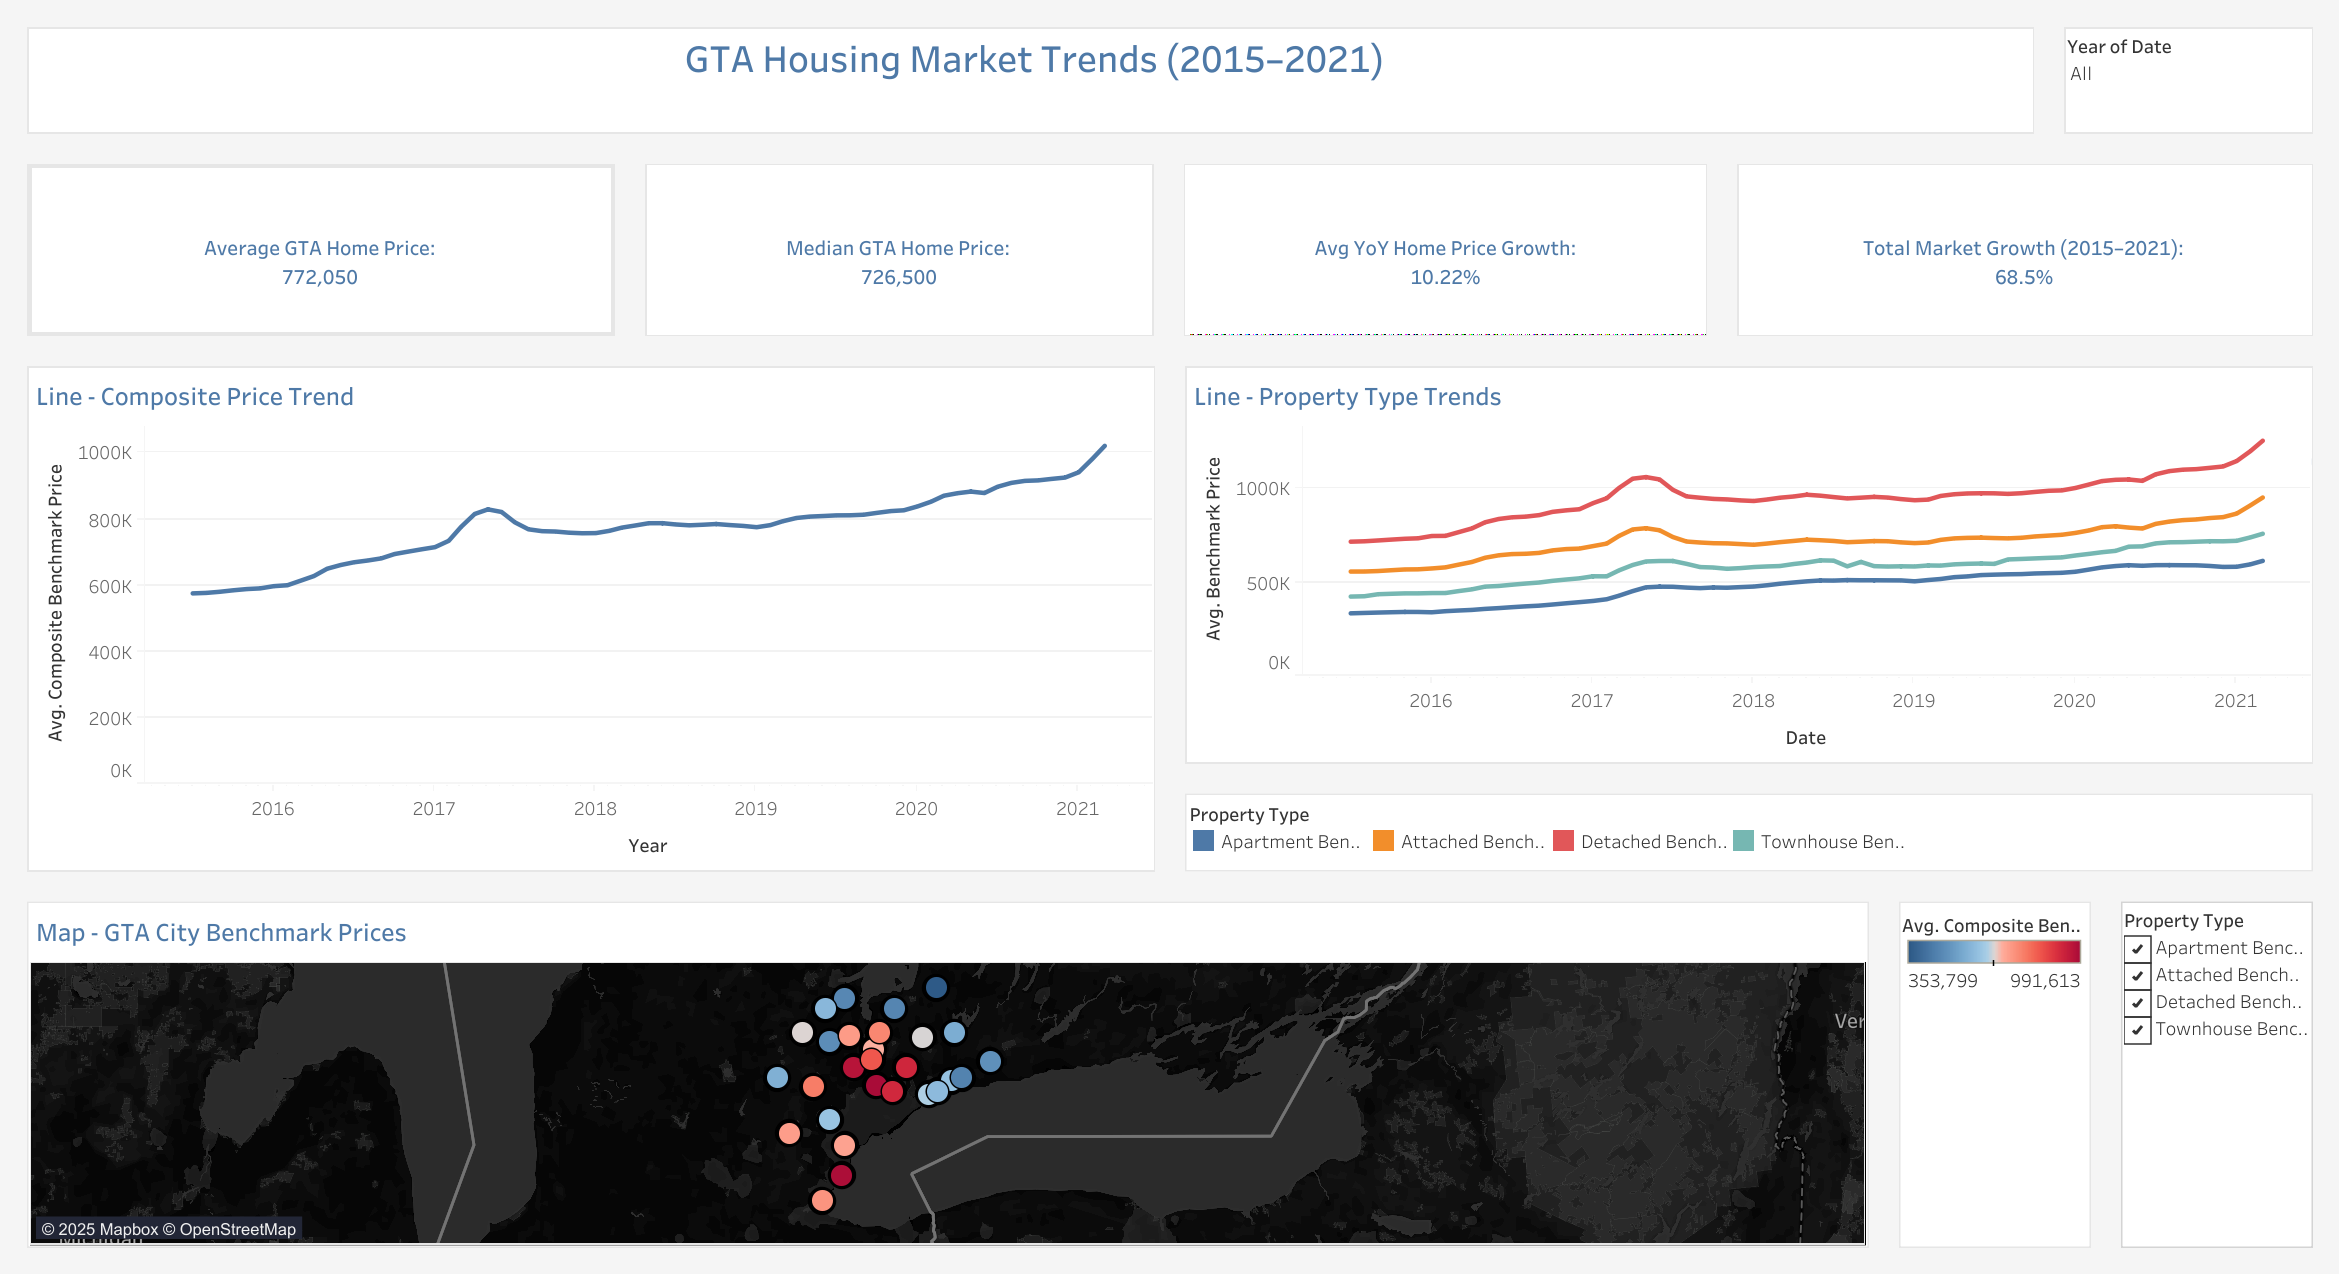

The dashboard page shown, as its layout file describes it:
{"tool":"tableau","page":{"name":"GTA Real Estate Analysis","canvas":[1560,850],"ordinal":0},"visuals":[{"type":"text","box":[8,8,1357.8,91]},{"type":"filter","title":"Line - Composite Price Trend","param":"[federated.1i7hz910ywaebm1gs4exz1m4fygc].[yr:Date:ok]","box":[1365.8,8,186.2,91]},{"type":"worksheet","title":"KPI - Median Price","mark":"Automatic","box":[420.1,99,359.3,135]},{"type":"worksheet","title":"KPI - YoY Growth","mark":"Automatic","box":[779.4,99,369,135]},{"type":"worksheet","title":"KPI - Total Market Growth","mark":"Automatic","box":[1148.4,99,403.6,135]},{"type":"worksheet","title":"KPI - Average Price","mark":"Text","box":[22,113,384.1,107]},{"type":"worksheet","title":"Line - Composite Price Trend","mark":"Automatic","rows":["Composite_Benchmark_Price"],"cols":["Date"],"box":[8,234,771.9,357]},{"type":"worksheet","title":"Line - Property Type Trends","mark":"Line","rows":["Pivot Field Values"],"cols":["Date"],"box":[779.9,234,772.1,285]},{"type":"legend","title":"Line - Property Type Trends","param":"[federated.1i7hz910ywaebm1gs4exz1m4fygc].[none:Pivot Field Names:nk]","box":[779.9,519,772.1,72]},{"type":"worksheet","title":"Map - GTA City Benchmark Prices","mark":"Automatic","box":[8,591,1248,251]},{"type":"legend","title":"Map - GTA City Benchmark Prices","param":"[federated.1i7hz910ywaebm1gs4exz1m4fygc].[avg:Composite_Benchmark_Price:qk]","box":[1256,591,148,251]},{"type":"filter","title":"Line - Property Type Trends","param":"[federated.1i7hz910ywaebm1gs4exz1m4fygc].[none:Pivot Field Names:nk]","box":[1404,591,148,251]}]}

Visuals, with their boxes in screenshot pixels (x1, y1, x2, y2), scaled from the page's 1560x850 canvas onto the 2339x1274 screenshot:
text: [left=12, top=12, right=2048, bottom=148]
"Line - Composite Price Trend" filter: [left=2048, top=12, right=2327, bottom=148]
"KPI - Median Price" worksheet: [left=630, top=148, right=1169, bottom=351]
"KPI - YoY Growth" worksheet: [left=1169, top=148, right=1722, bottom=351]
"KPI - Total Market Growth" worksheet: [left=1722, top=148, right=2327, bottom=351]
"KPI - Average Price" worksheet (Text marks): [left=33, top=169, right=609, bottom=330]
"Line - Composite Price Trend" worksheet: [left=12, top=351, right=1169, bottom=886]
"Line - Property Type Trends" worksheet (Line marks): [left=1169, top=351, right=2327, bottom=778]
"Line - Property Type Trends" legend: [left=1169, top=778, right=2327, bottom=886]
"Map - GTA City Benchmark Prices" worksheet: [left=12, top=886, right=1883, bottom=1262]
"Map - GTA City Benchmark Prices" legend: [left=1883, top=886, right=2105, bottom=1262]
"Line - Property Type Trends" filter: [left=2105, top=886, right=2327, bottom=1262]
